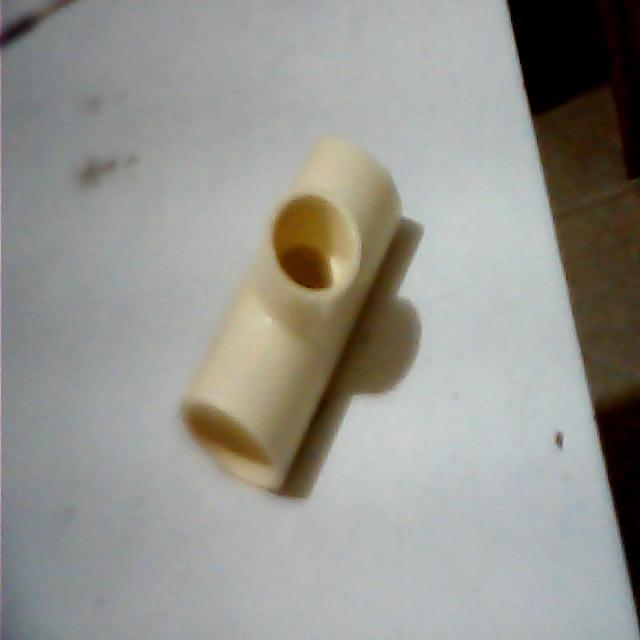T Joint: (180, 137, 401, 493)
